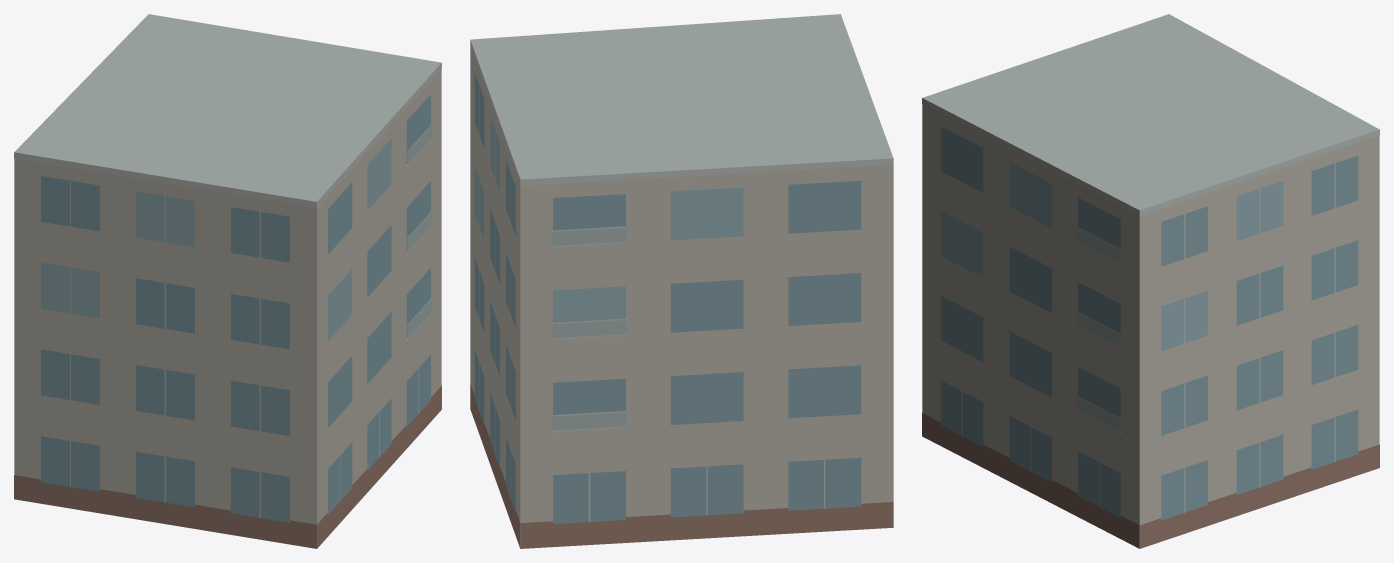
Rendered from survey-upis-32765250.glb.
3 renders of one model, left to right at view 1: azimuth 30°, elevation 25°; view 2: azimuth 150°, elevation 25°; view 3: azimuth 270°, elevation 25°, orthographic. The views are drawn at different scales.
Parts seen in each view (by area): view 1: survey-upis-32765250.tmp; view 2: survey-upis-32765250.tmp; view 3: survey-upis-32765250.tmp.
Part boxes in pixels (x1,y1,x2,y2): survey-upis-32765250.tmp: (14,14,441,548); survey-upis-32765250.tmp: (470,14,893,548); survey-upis-32765250.tmp: (922,14,1379,548).
Size of the model in its own units: 17.43 by 14 by 17.17.
